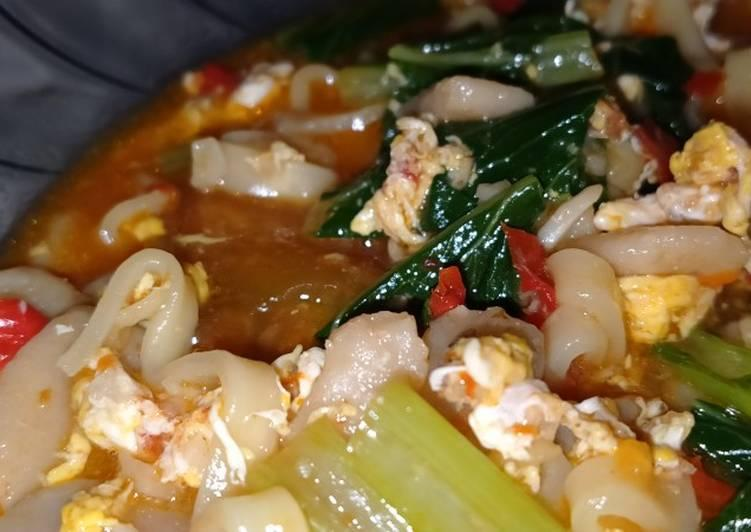seblak: (2, 5, 751, 532)
